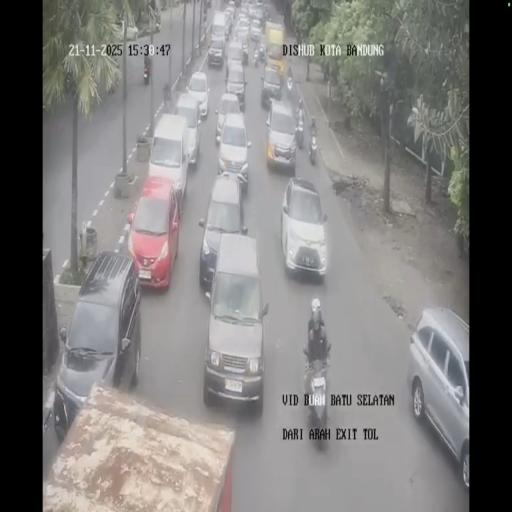car: (54, 252, 142, 438), (407, 306, 469, 493), (127, 177, 181, 289), (198, 170, 248, 288), (279, 174, 327, 282), (265, 96, 298, 174), (216, 110, 250, 182), (172, 94, 204, 166), (225, 58, 247, 108), (261, 63, 283, 108), (207, 32, 225, 68), (116, 20, 139, 39), (252, 2, 266, 28), (235, 20, 249, 46), (224, 2, 235, 31), (240, 0, 250, 18)
motorcycle: (304, 316, 333, 434), (308, 129, 317, 165), (257, 42, 265, 64), (242, 45, 249, 65), (287, 62, 293, 81), (265, 6, 272, 22)
